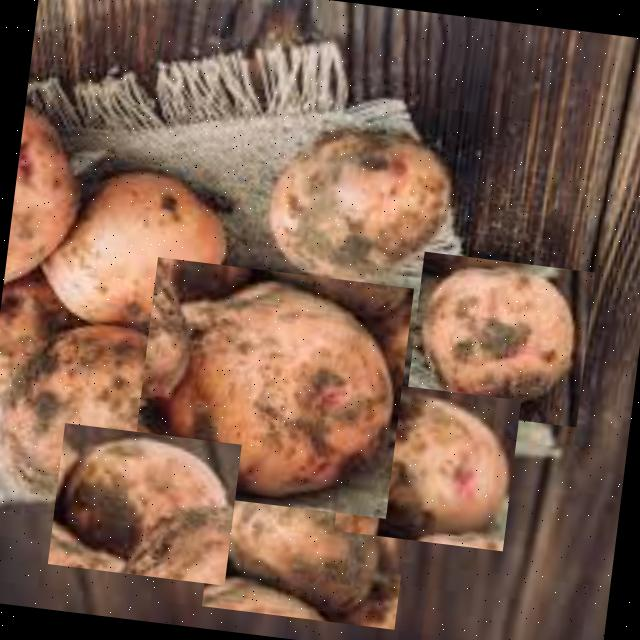Diseased-fungal potato: (128, 255, 412, 518), (0, 305, 197, 519), (26, 146, 235, 346), (252, 115, 466, 302), (200, 454, 412, 628), (404, 250, 594, 426), (332, 378, 520, 550), (46, 422, 241, 584)
